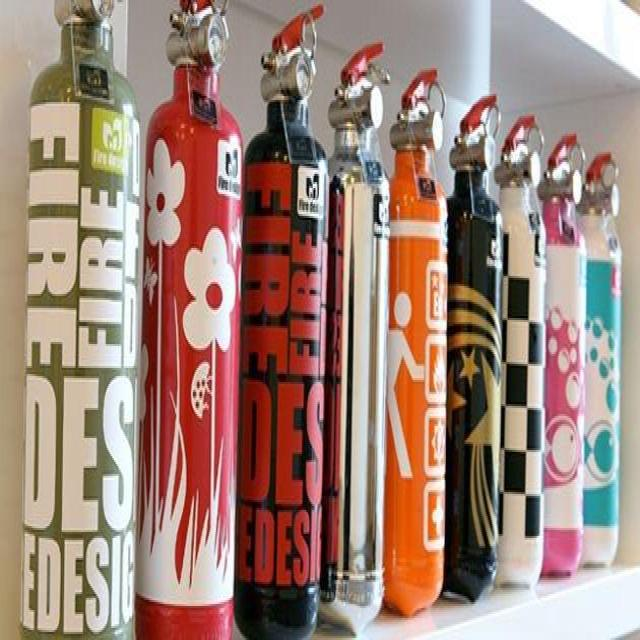fire_extinguisher: (20, 0, 144, 638), (129, 0, 246, 638), (225, 2, 332, 638), (308, 38, 393, 638), (364, 61, 451, 621), (425, 89, 506, 613), (475, 107, 545, 589), (520, 129, 587, 585), (552, 145, 622, 573)
